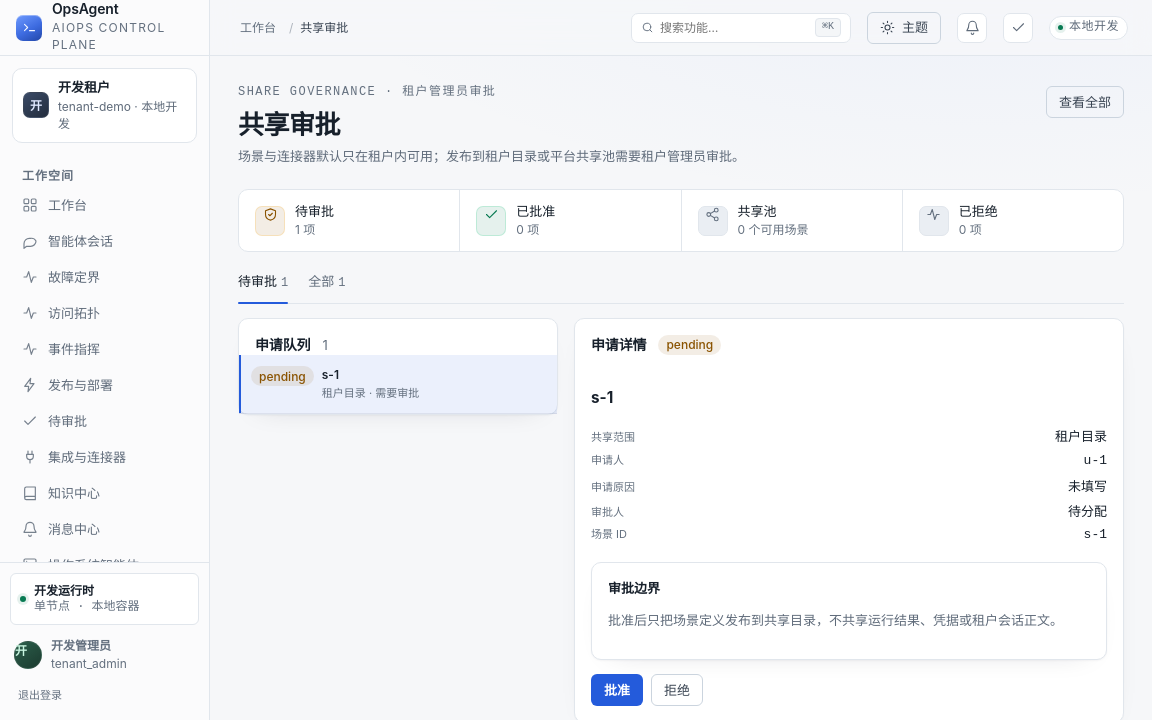
Test: Shares › lists pending shares and approves one
The image size is (1152, 720).
Expected: the text "s-1" below "申请队列" is shown, [322,367,339,382]
Click the button "批准" at (617, 690), box [591,674,643,706]
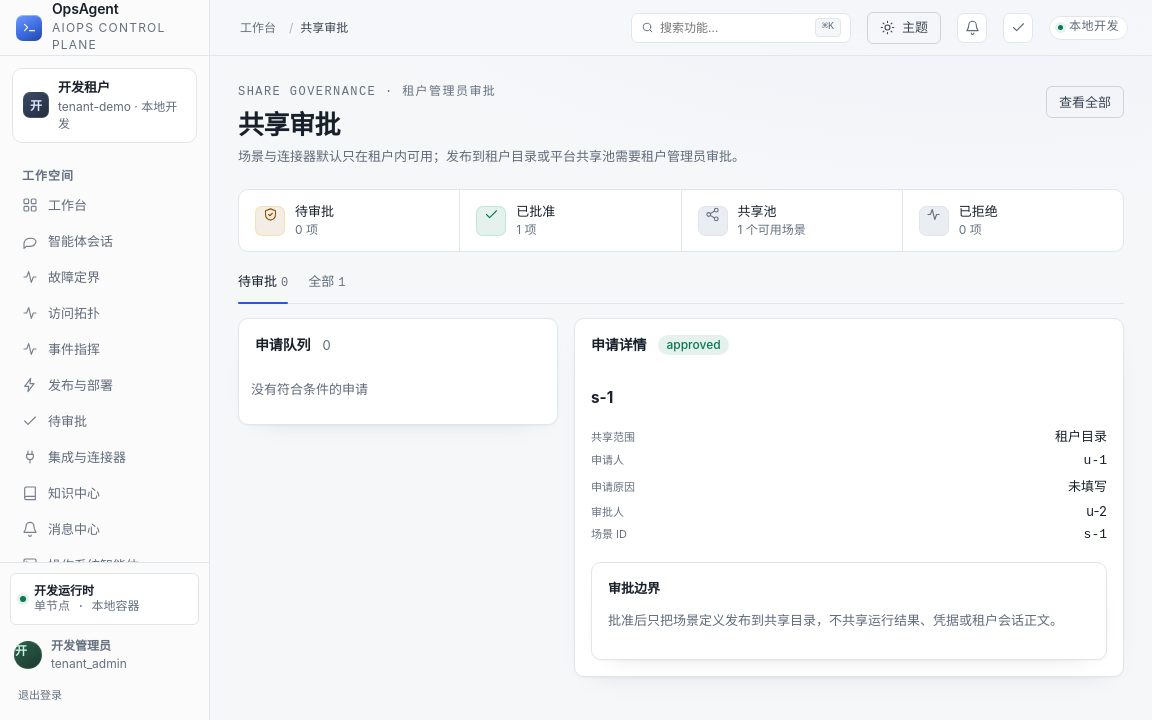
Expected: the text "approved" is shown, [658,335,729,355]
